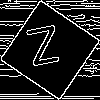Z: (25, 25, 64, 75)
